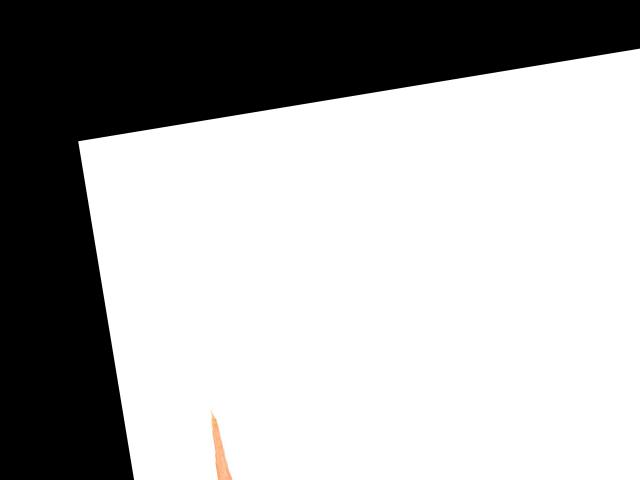carrot: (201, 404, 239, 480)
